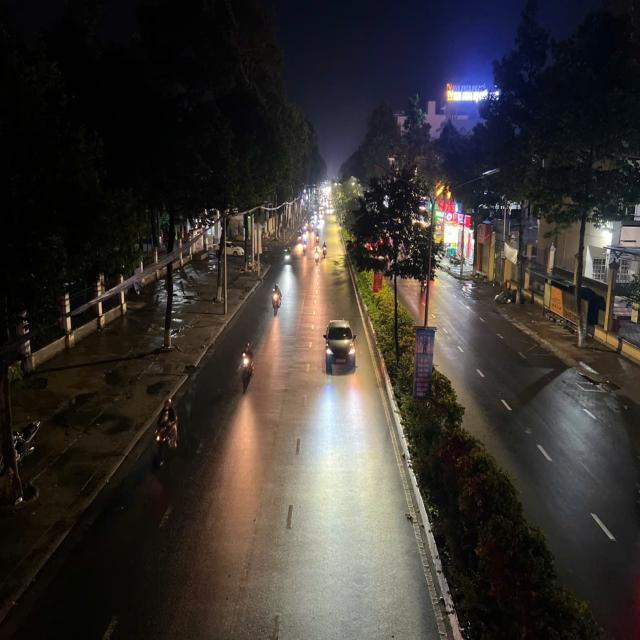car: (320, 319, 361, 382)
motobyte: (151, 402, 178, 468), (239, 342, 256, 396), (270, 274, 284, 318), (284, 246, 291, 264), (314, 249, 320, 267), (322, 242, 327, 260), (302, 242, 306, 256), (296, 232, 301, 242), (311, 221, 315, 233), (303, 233, 307, 245), (316, 232, 319, 244)
